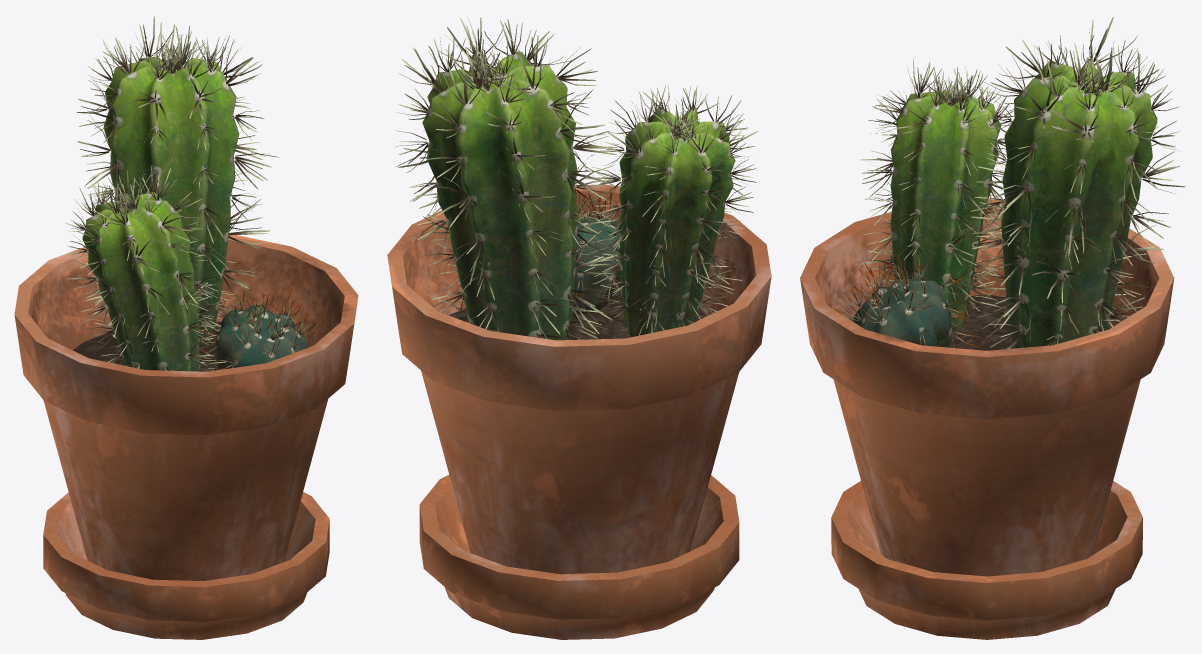
Rendered from cactus_plant.glb.
3 renders of one model, left to right at view 1: azimuth 30°, elevation 25°; view 2: azimuth 150°, elevation 25°; view 3: azimuth 270°, elevation 25°, orthographic. The views are drawn at different scales.
Visible parts, largest first — view 1: Object_26, Object_34; view 2: Object_26, Object_34; view 3: Object_26, Object_34.
Boxes of the visible parts, left/top/right/bottom form: Object_26: left=14, top=235, right=358, bottom=639; Object_34: left=65, top=16, right=316, bottom=371; Object_26: left=387, top=184, right=771, bottom=639; Object_34: left=395, top=17, right=757, bottom=340; Object_26: left=800, top=199, right=1174, bottom=639; Object_34: left=829, top=17, right=1185, bottom=348.
Size of the model in its own units: 0.277 by 0.4585 by 0.2871.
2 materials, 2 textured.
